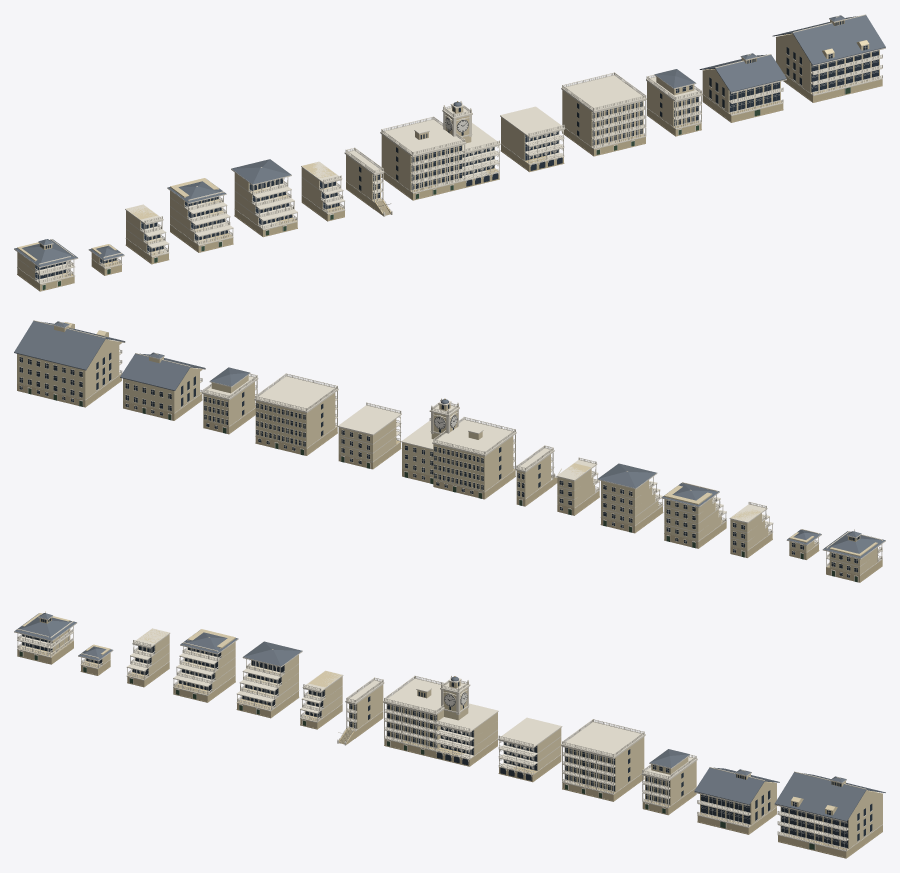
Rendered from stand_modules.glb.
3 renders of one model, top to bottom at view 1: azimuth 30°, elevation 25°; view 2: azimuth 150°, elevation 25°; view 3: azimuth 330°, elevation 25°, orthographic.
Parts seen in each view (by area): view 1: module_clock_centre, module_grand_pavilion, module_window_block, module_pavilion, module_veranda_wing_raised, module_veranda_wing, module_ironwork_bay, module_three_storey_block, module_end_pavilion, module_link, module_veranda_low, module_stair_bay (+1 smaller); view 2: module_clock_centre, module_grand_pavilion, module_window_block, module_pavilion, module_veranda_wing_raised, module_veranda_wing, module_ironwork_bay, module_three_storey_block, module_end_pavilion, module_link, module_veranda_low, module_stair_bay (+1 smaller); view 3: module_clock_centre, module_grand_pavilion, module_window_block, module_pavilion, module_veranda_wing_raised, module_veranda_wing, module_ironwork_bay, module_three_storey_block, module_end_pavilion, module_link, module_veranda_low, module_stair_bay (+1 smaller).
Part boxes in pixels (<box>): module_clock_centre: <box>380,101,500,200</box>; module_grand_pavilion: <box>772,14,885,102</box>; module_window_block: <box>561,72,646,156</box>; module_pavilion: <box>699,53,786,122</box>; module_veranda_wing_raised: <box>231,159,297,237</box>; module_veranda_wing: <box>167,178,233,252</box>; module_ironwork_bay: <box>500,106,565,172</box>; module_three_storey_block: <box>646,69,702,136</box>; module_end_pavilion: <box>14,239,78,291</box>; module_link: <box>301,161,345,221</box>; module_veranda_low: <box>125,204,169,264</box>; module_stair_bay: <box>344,147,392,216</box>; module_clock_centre: <box>401,398,516,499</box>; module_grand_pavilion: <box>14,320,125,407</box>; module_window_block: <box>254,373,338,455</box>; module_pavilion: <box>120,352,205,420</box>; module_veranda_wing_raised: <box>597,463,663,533</box>; module_veranda_wing: <box>661,482,726,548</box>; module_ironwork_bay: <box>337,402,401,469</box>; module_three_storey_block: <box>202,367,258,434</box>; module_end_pavilion: <box>822,529,885,582</box>; module_link: <box>556,457,599,515</box>; module_veranda_low: <box>729,501,773,557</box>; module_stair_bay: <box>515,445,561,506</box>; module_clock_centre: <box>383,675,498,766</box>; module_grand_pavilion: <box>774,771,885,858</box>; module_window_block: <box>561,719,645,801</box>; module_pavilion: <box>694,767,779,834</box>; module_veranda_wing_raised: <box>236,641,302,718</box>; module_veranda_wing: <box>173,629,238,702</box>; module_ironwork_bay: <box>498,717,562,782</box>; module_three_storey_block: <box>641,749,697,815</box>; module_end_pavilion: <box>14,611,77,664</box>; module_link: <box>300,670,343,729</box>; module_veranda_low: <box>126,628,170,687</box>; module_stair_bay: <box>337,677,384,745</box>.
Size of the model in its own units: 342 by 29.75 by 33.45.
